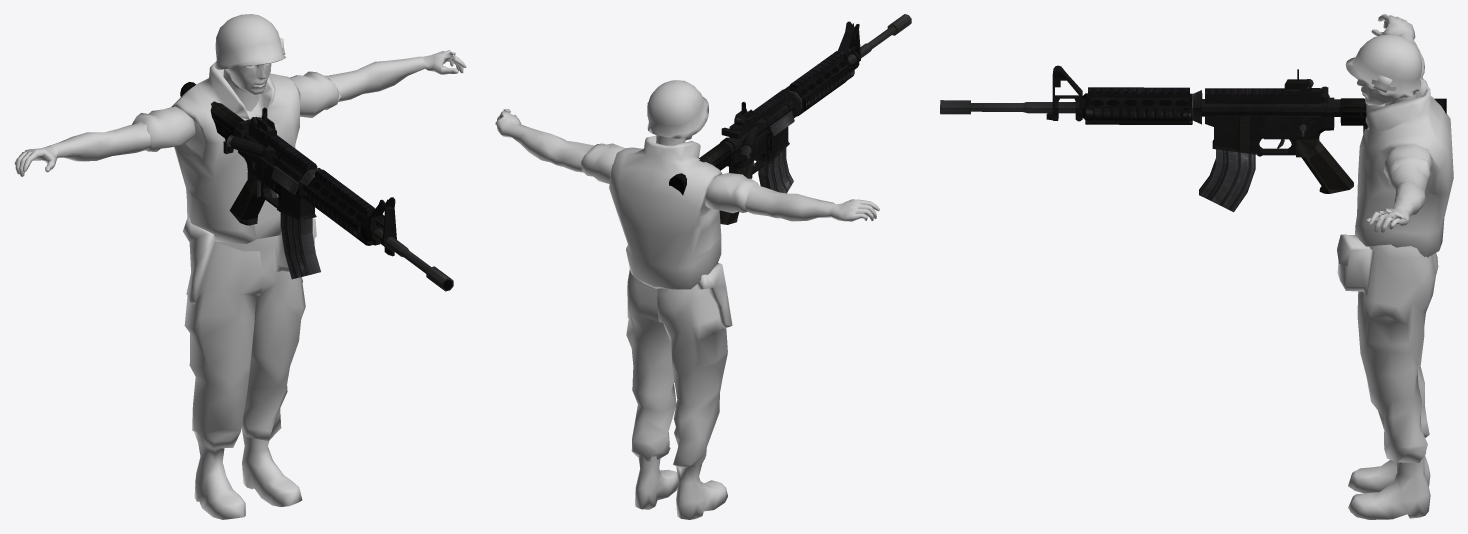
Rendered from soldier.obj.
3 views of the same model, side by side, from view 1: azimuth 30°, elevation 25°; view 2: azimuth 150°, elevation 25°; view 3: azimuth 270°, elevation 25° (orthographic). The views are drawn at different scales.
Parts seen in each view (by area): view 1: vietnam_soldier.obj, Cylinder; view 2: vietnam_soldier.obj, Cylinder; view 3: vietnam_soldier.obj, Cylinder.
Boxes of the visible parts, <box> form: vietnam_soldier.obj: <box>14,14,466,519</box>; Cylinder: <box>180,82,453,291</box>; vietnam_soldier.obj: <box>495,80,879,519</box>; Cylinder: <box>669,14,911,224</box>; vietnam_soldier.obj: <box>1337,14,1453,519</box>; Cylinder: <box>940,65,1446,212</box>.
Size of the model in its own units: 8.16 by 8.56 by 8.57.
